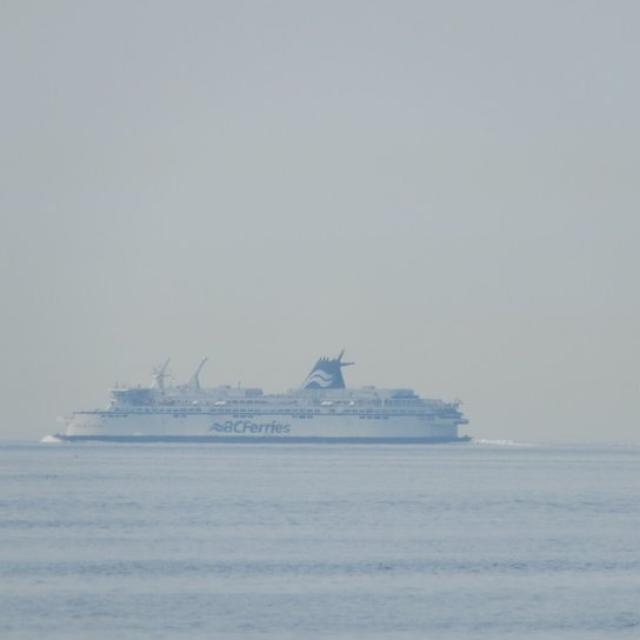passenger ship: (52, 354, 466, 450)
